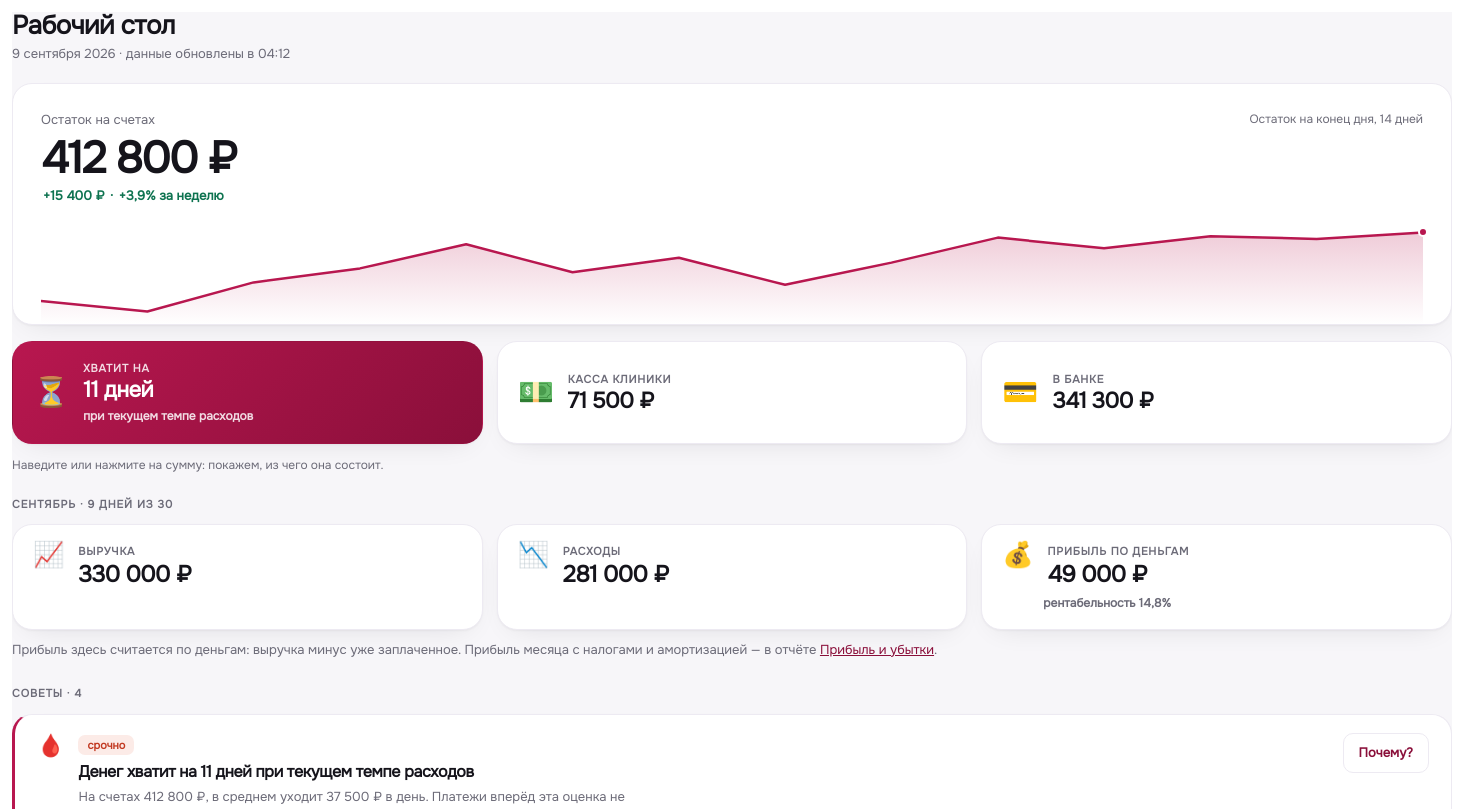
Test: DashboardPage: tips › shows the runway tip with the formula note, and the revenue tip with reference rows
Expected: the element with test id "balance-hero" is shown, [12, 83, 1452, 325]
Click the button with test id "figure-tip-trigger" that starts with "Хватит на" at (51, 392), box [13, 342, 482, 443]
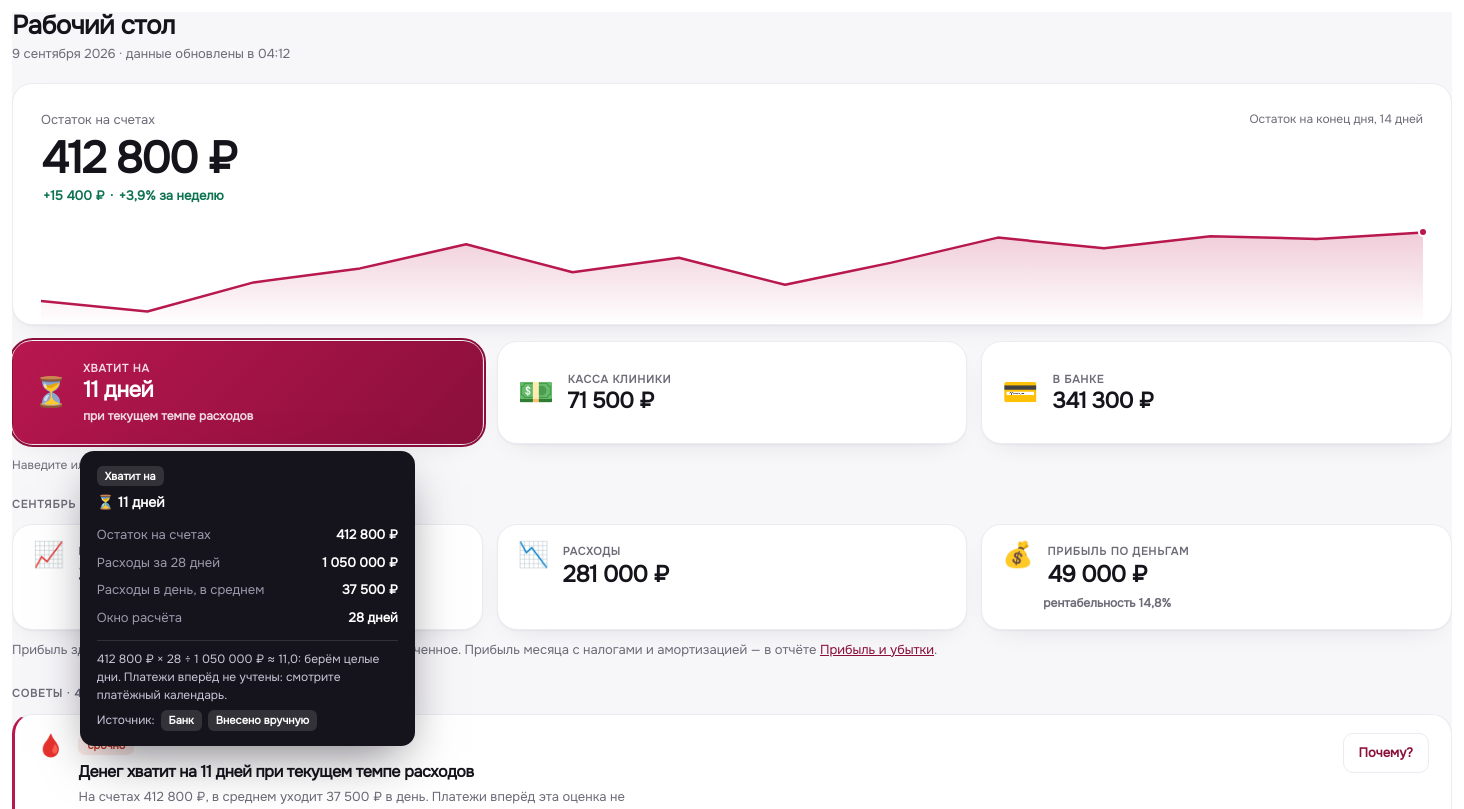
Expected: the tooltip with test id "figure-tip" shows "Платежи вперёд не учтены", [97, 651, 379, 703]
Click the button with test id "figure-tip-trigger" showing "📈 Выручка 330 000 ₽" at (49, 555), box [13, 525, 482, 629]
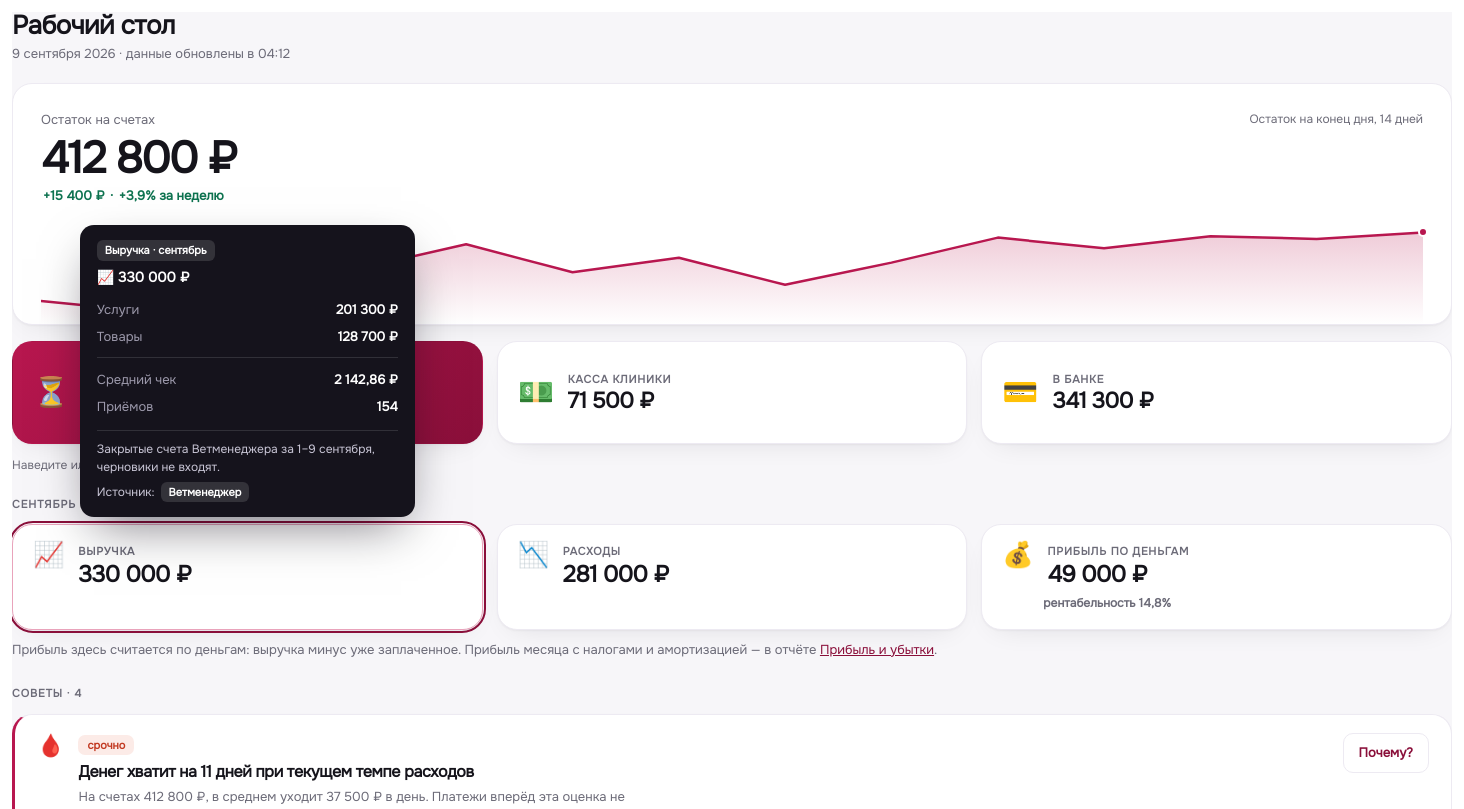
Expected: the tooltip with test id "figure-tip" shows "Выручка · сентябрь", [105, 243, 207, 257]
Expected: the number of list items with test id "figure-tip-row" is 2, [97, 296, 398, 323]; [97, 323, 398, 351]
Expected: the number of list items with test id "figure-tip-detail" is 2, [97, 366, 398, 393]; [97, 393, 398, 421]
